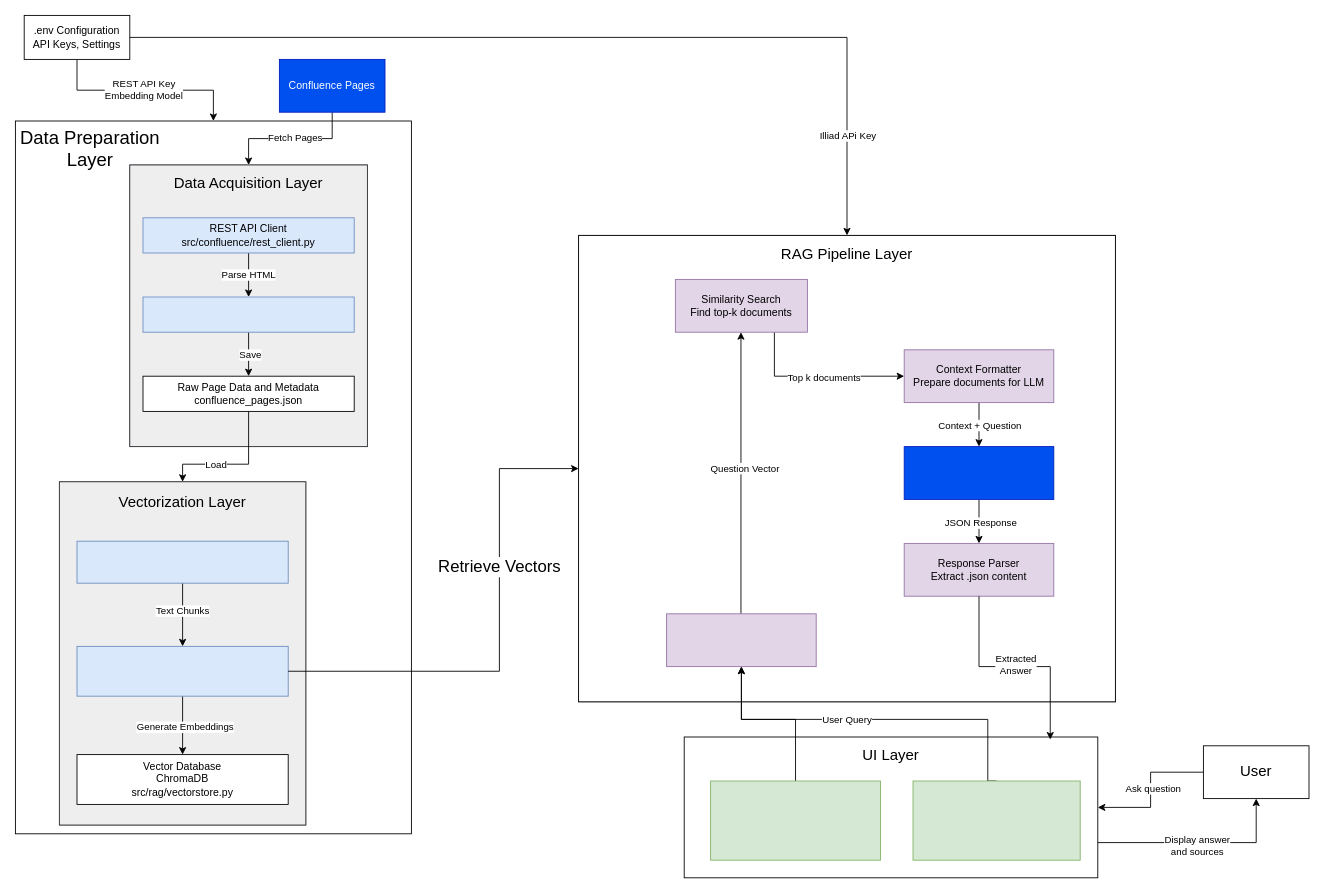
Some shapes in this 1324 by 893 pixel diagram are drawn without their labels. The centre of each missing label's shape, as x and y in pixels:
"Embedding Manager sentence-transformers src/rag/embeddings.py" belongs at pixel 182 670.
"HTML Parser src/confluence/parser.py" belongs at pixel 248 314.
"Iliad API AbbVie Internal LLM" belongs at pixel 978 472.
"Jupyter Notebook notebooks/02_rag_queires.ipynb Interactive Jupyter Notebook" belongs at pixel 795 820.
"Query Embedding Convert question to vector" belongs at pixel 741 640.
"Streamlit Web App src/ui/app.py" belongs at pixel 996 820.
"Text Chuncker Split text into reasonable chunks" belongs at pixel 182 561.
